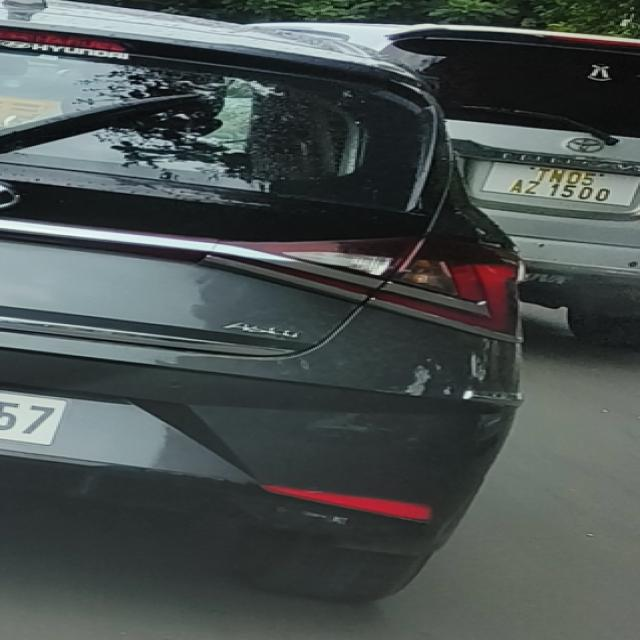scratch: (266, 502, 352, 530)
